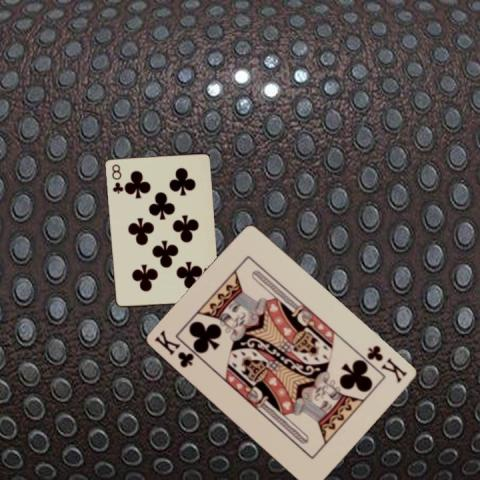8c: (109, 161, 123, 194)
Kc: (364, 342, 409, 384), (152, 327, 196, 369)
